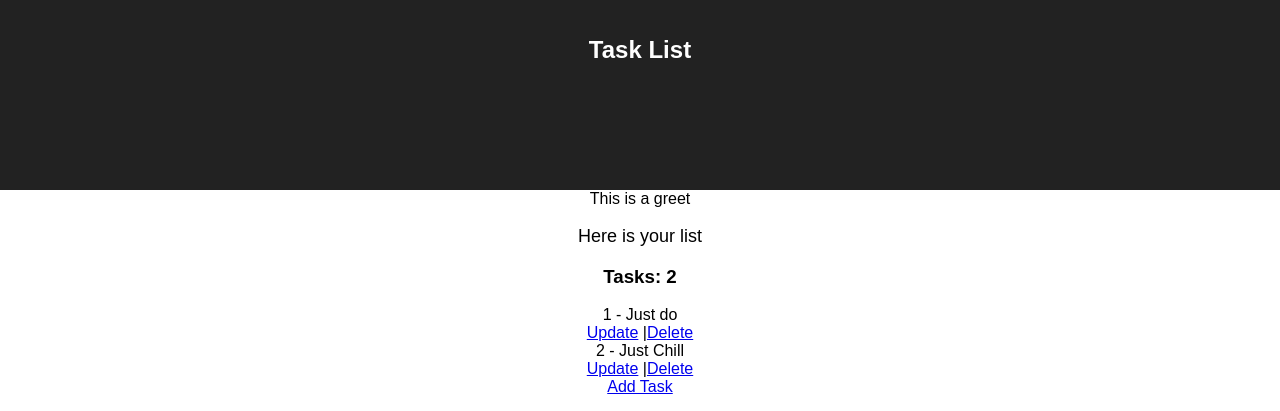
Test: Greet › changes on click
Click the text with class "Greet" at (641, 199), box x1=590 y1=190 x2=691 y2=207
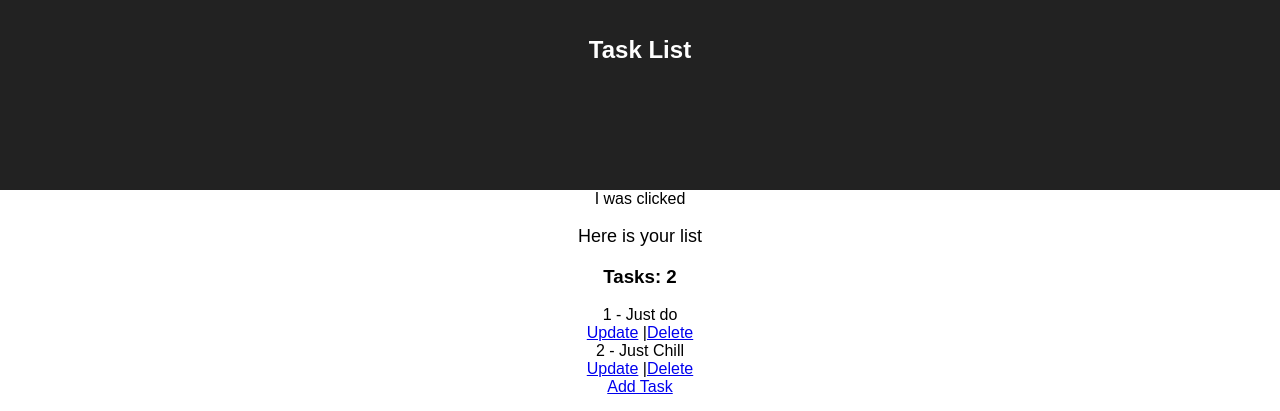
Now the text with class "Greet" reads "I was clicked", box x1=595 y1=190 x2=686 y2=207
